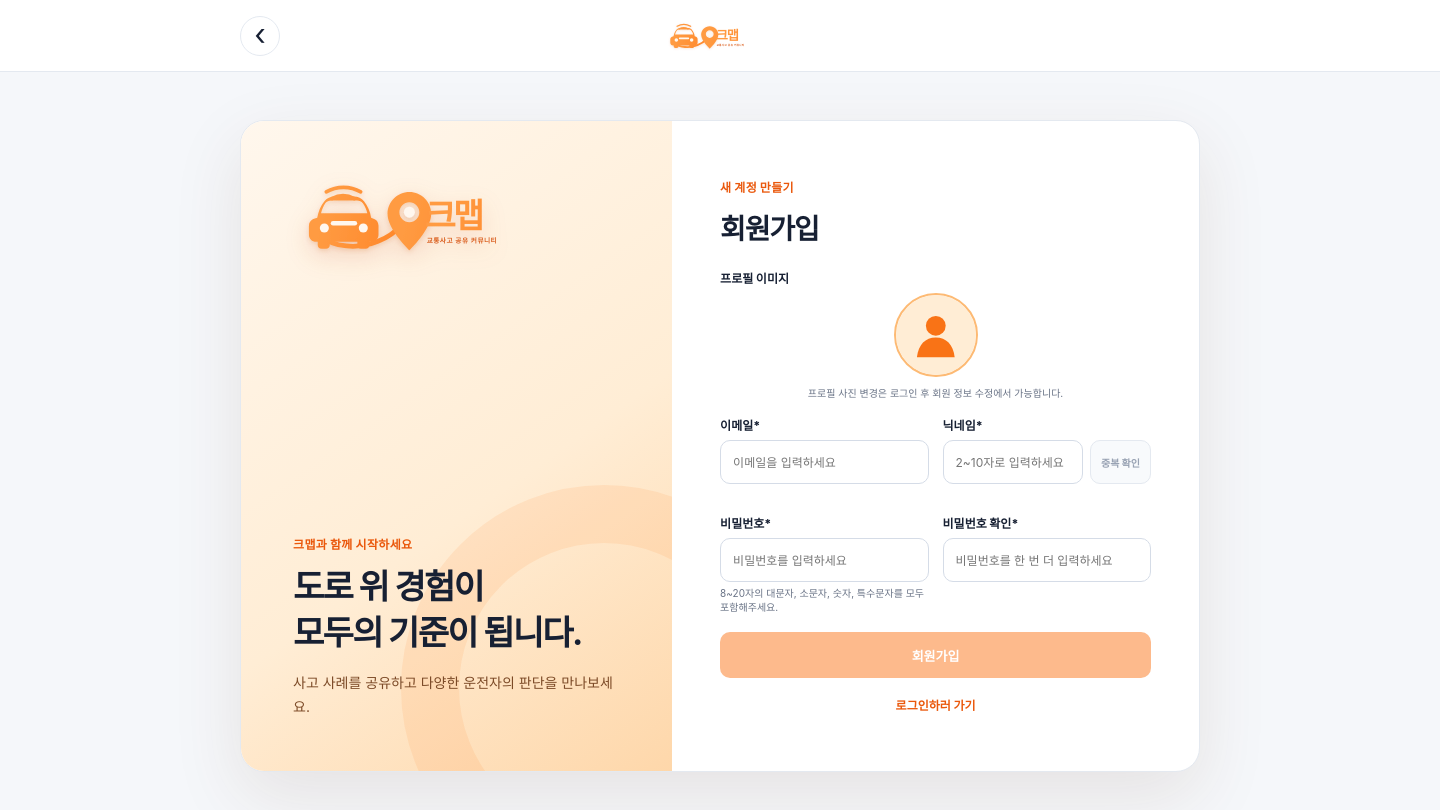
Test: SignupPage › 백엔드의 이메일 중복 오류를 사용자용 메시지로 표시한다
Type "user@example.com" into the field labelled "이메일*".
click(824, 462); type("user@example.com")  # box [720,440,929,484]
Press Tab
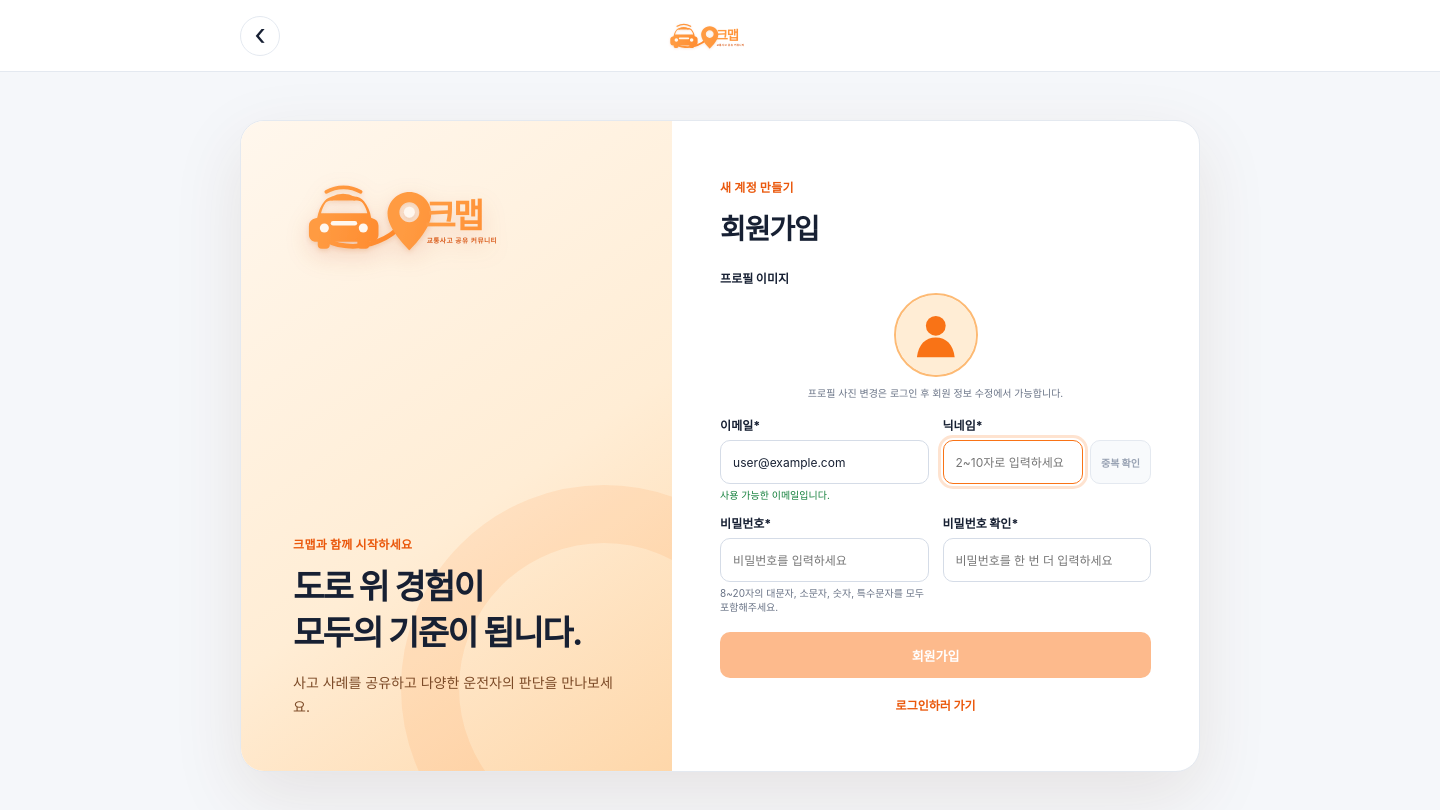
Check: the text "사용 가능한 이메일입니다." is shown, box [720,489,830,501]
Type "테스터" into the field labelled "닉네임*".
click(1013, 462); type("테스터")  # box [942,440,1083,484]
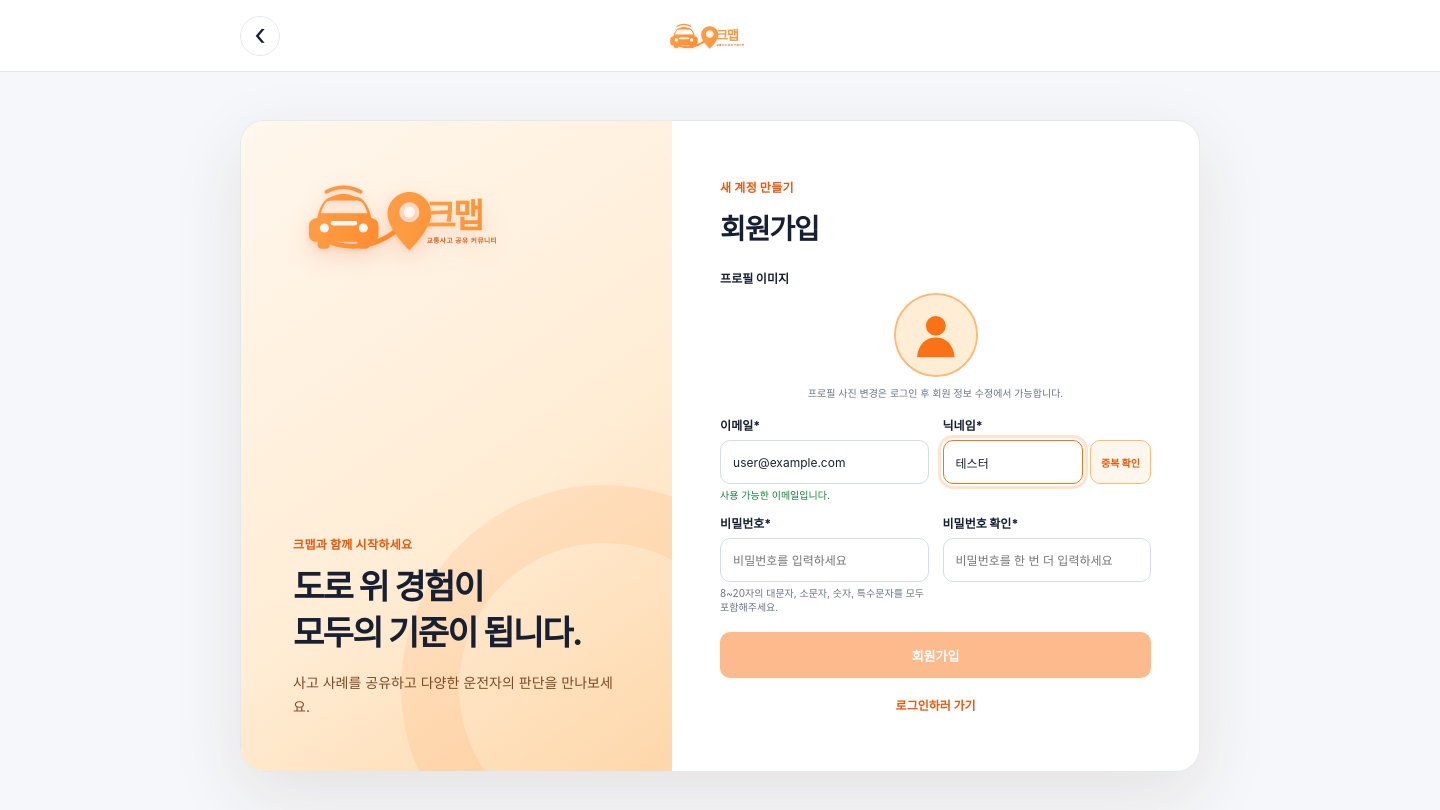
Click the button "중복 확인".
click(1120, 462)  # box [1090,440,1151,484]
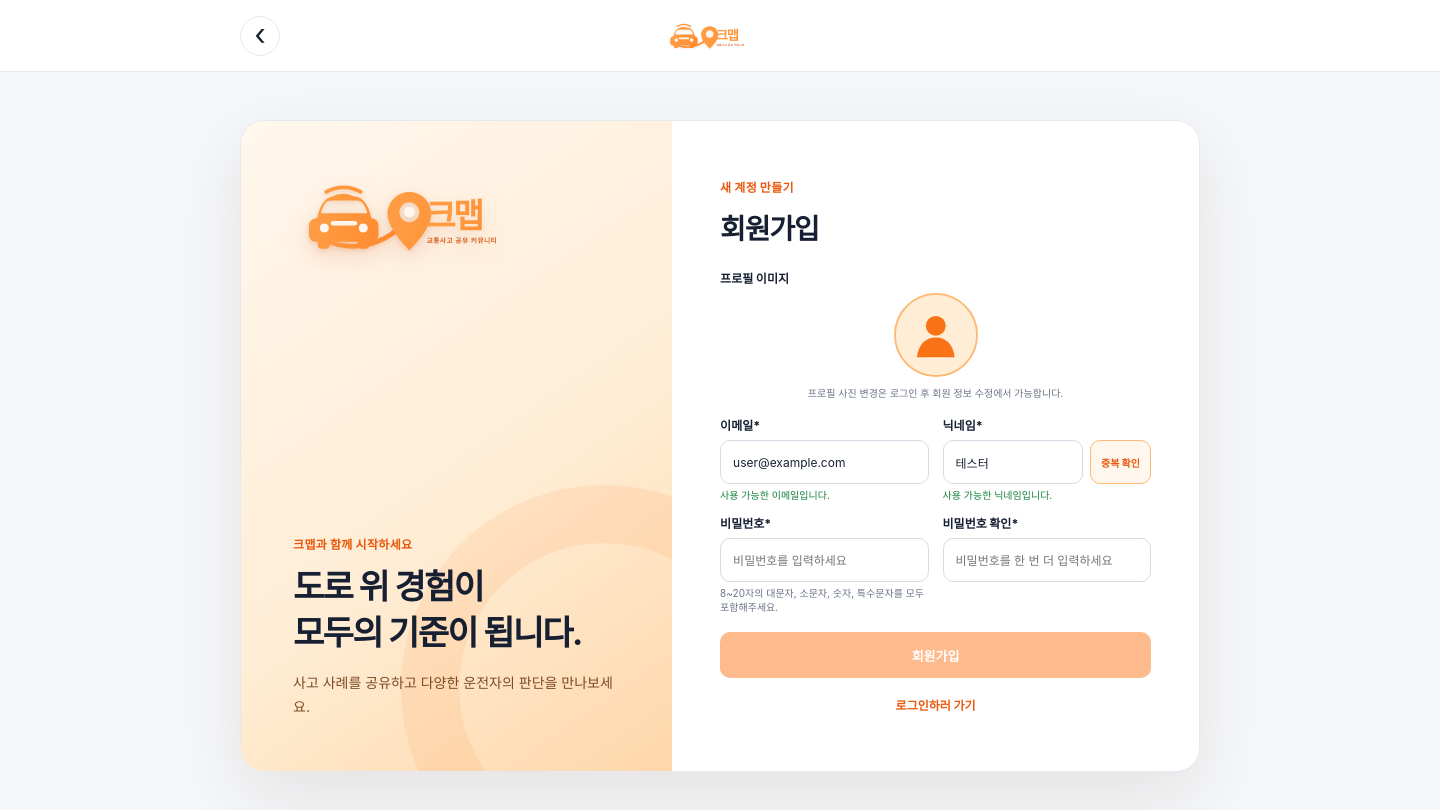
Check: the text "사용 가능한 닉네임입니다." is shown, box [942,489,1052,501]
Type "Password1!" into the password field labelled "비밀번호*".
click(824, 560); type("Password1!")  # box [720,538,929,582]
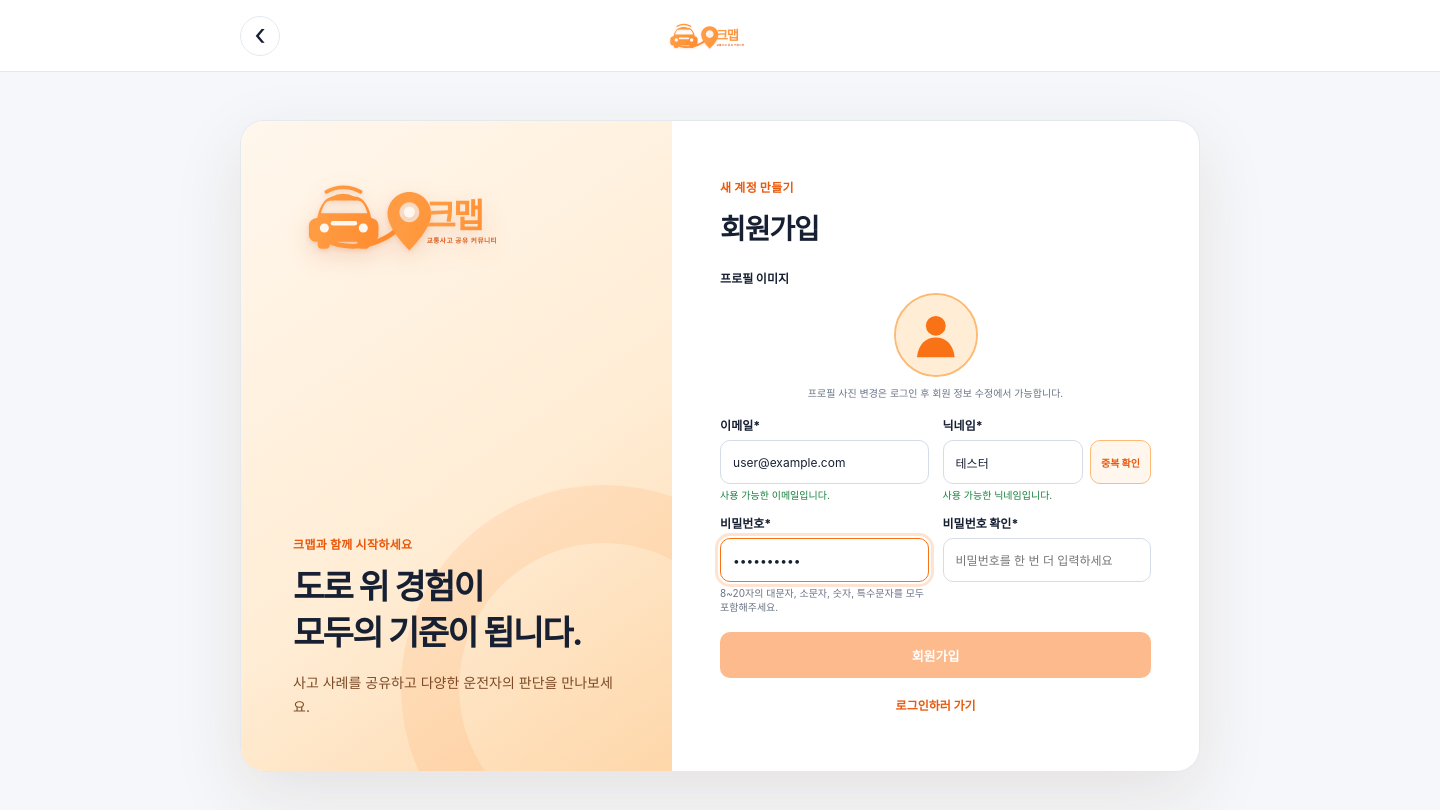
Type "Password1!" into the password field labelled "비밀번호 확인*".
click(1047, 560); type("Password1!")  # box [942,538,1151,582]
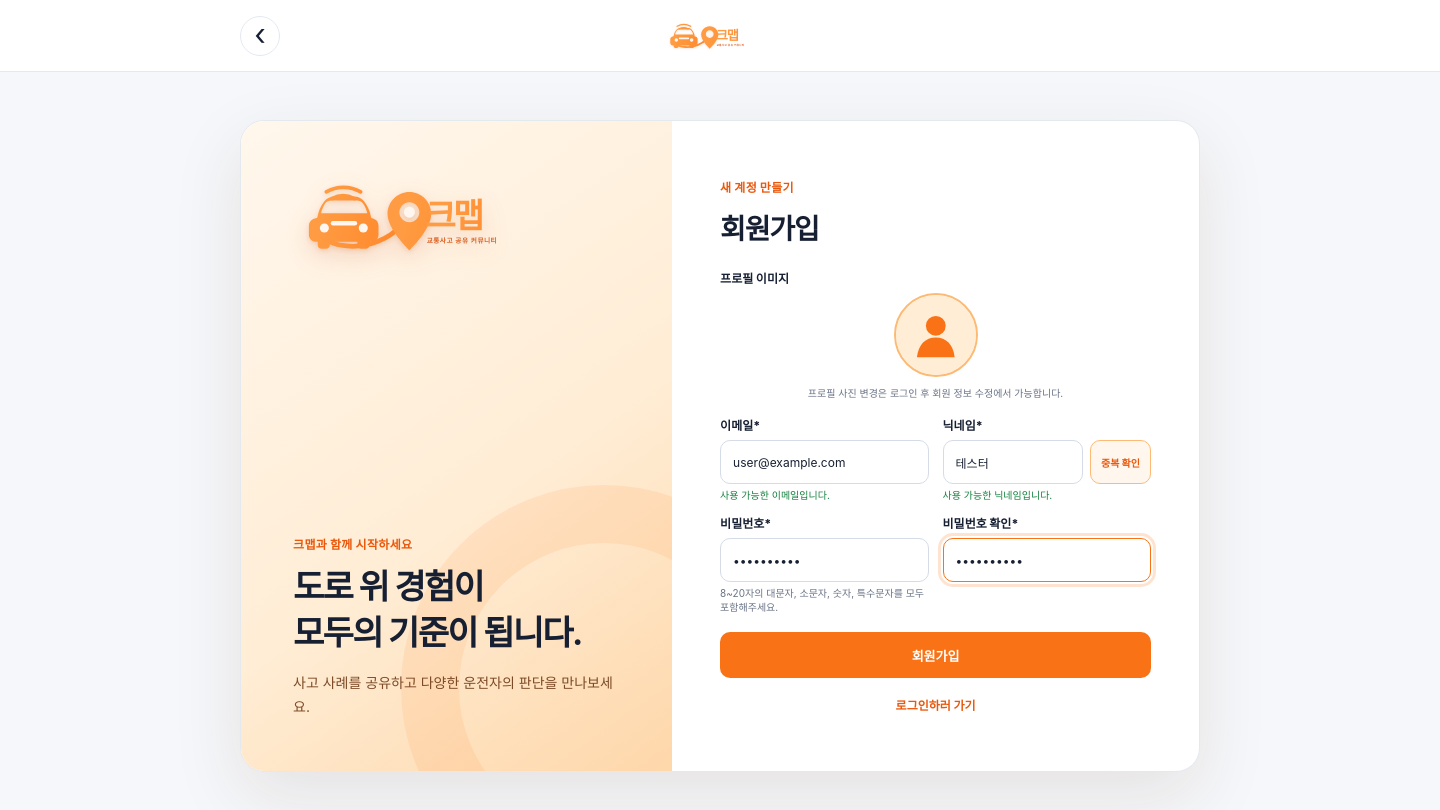
Click the button "회원가입".
click(936, 655)  # box [720,632,1151,678]
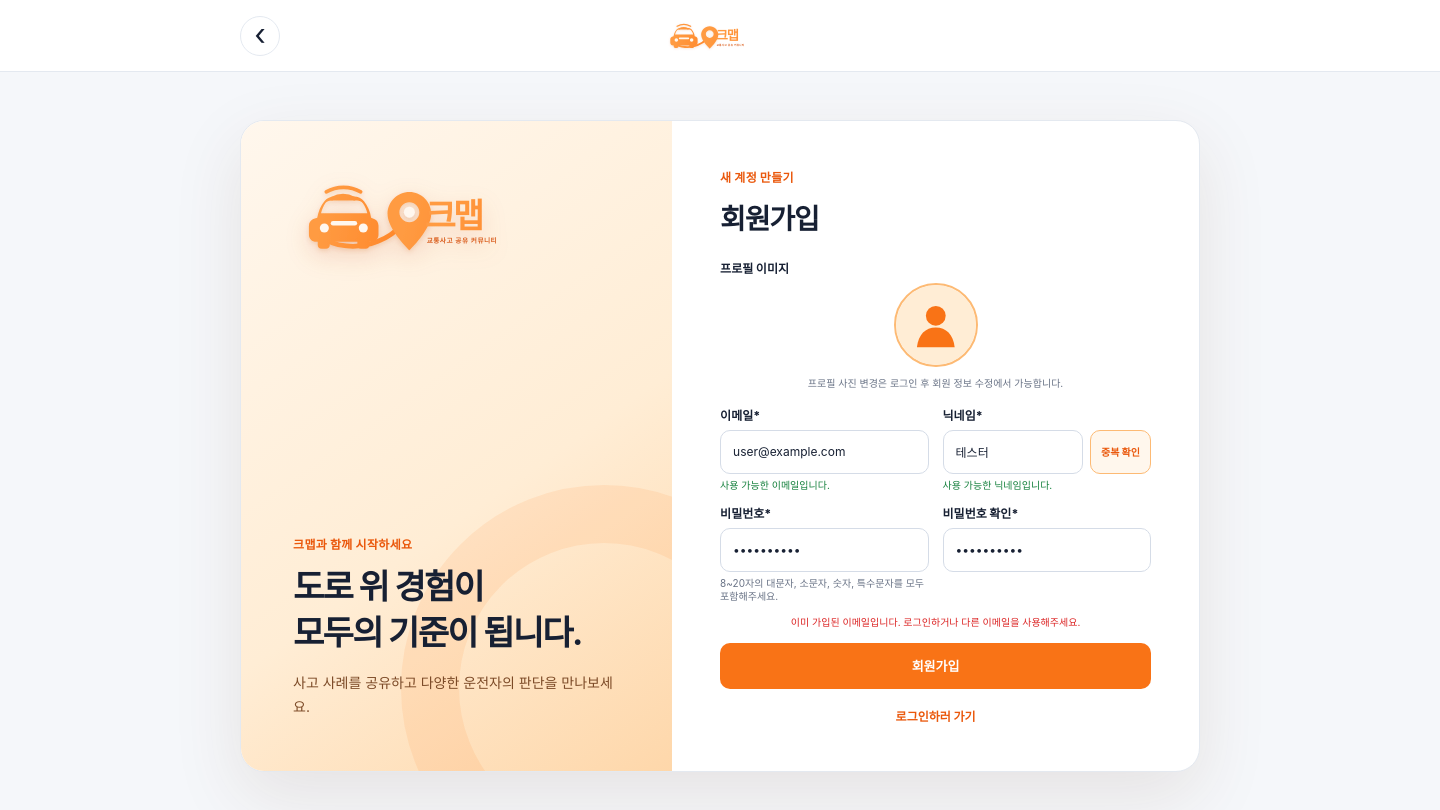
Check: the button "회원가입" is enabled, box [720,642,1151,688]
Check: the message reads "이미 가입된 이메일입니다. 로그인하거나 다른 이메일을 사용해주세요.", box [791,616,1080,628]
